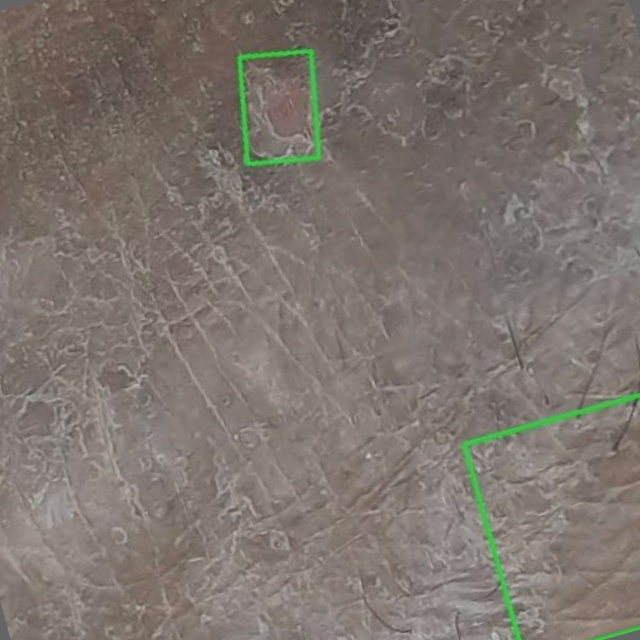Eczema: (239, 50, 320, 163)
